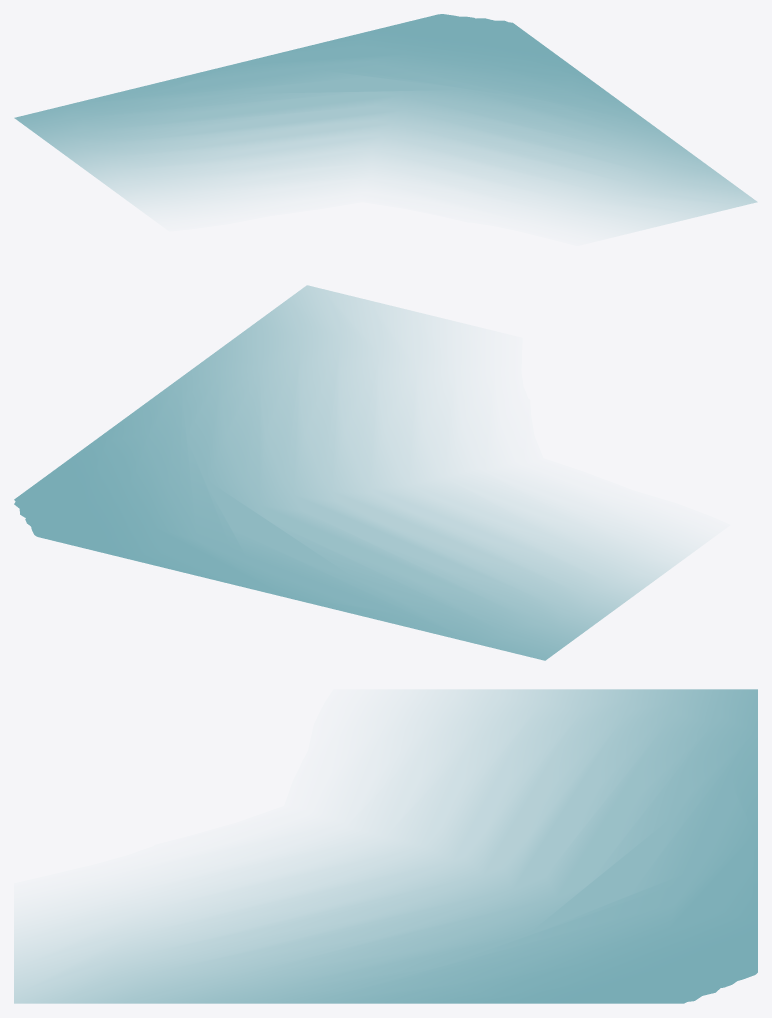
The picture shows the model from 3 angles, top to bottom: view 1: azimuth 30°, elevation 25°; view 2: azimuth 150°, elevation 25°; view 3: azimuth 270°, elevation 25°; orthographic projection. The views are drawn at different scales.
Visible parts, largest first — view 1: city; view 2: city; view 3: city.
Boxes of the visible parts, x1,y1,x2,y2 form: city: [14, 14, 756, 229]; city: [14, 285, 689, 660]; city: [14, 689, 757, 1003].
Size of the model in its own units: 500 by 0 by 500.
